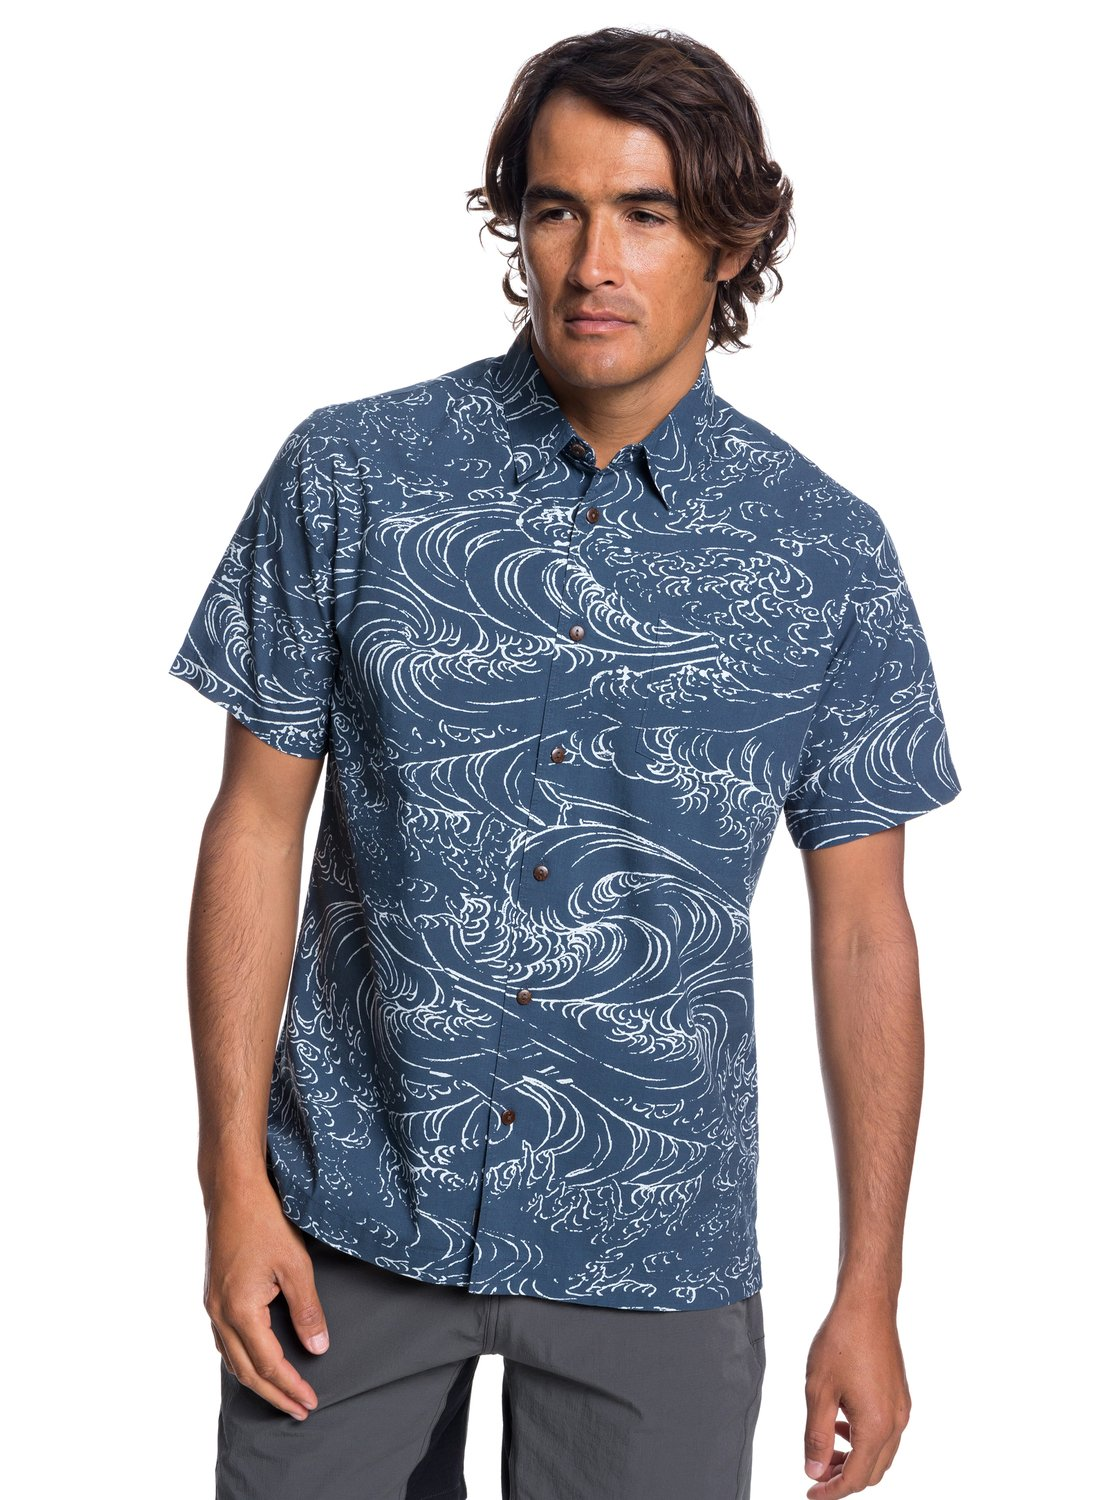NOTSAFE: (325, 16, 759, 1267)
